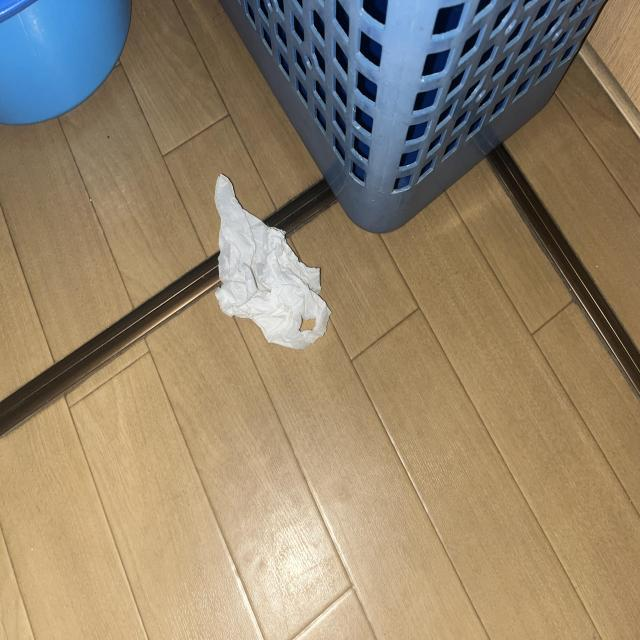Paper: (194, 154, 343, 364)
